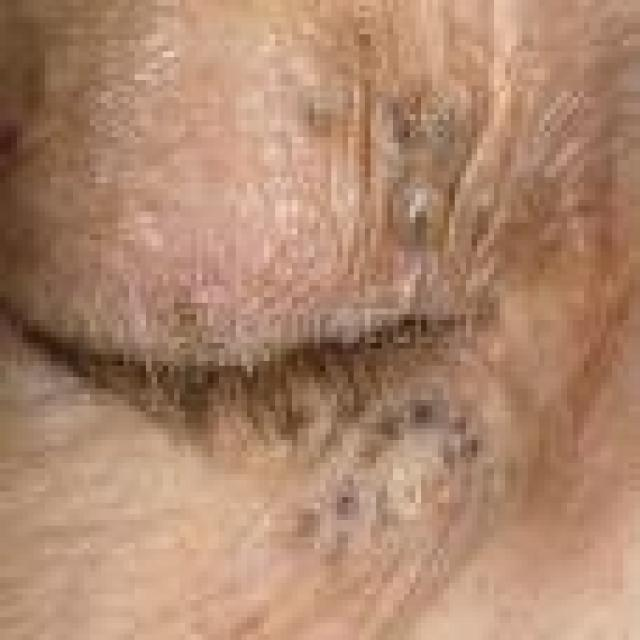Melasma: (368, 80, 593, 271), (290, 392, 498, 575)
